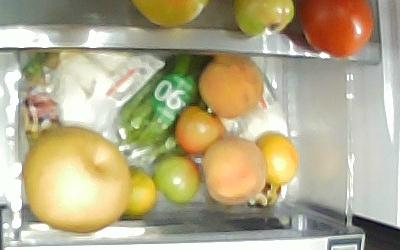peach: (204, 136, 266, 206), (199, 53, 265, 118)
pear: (22, 127, 130, 233)
tangerine: (256, 132, 300, 185), (122, 168, 156, 218)
tomato: (154, 155, 202, 205), (174, 106, 224, 152)
